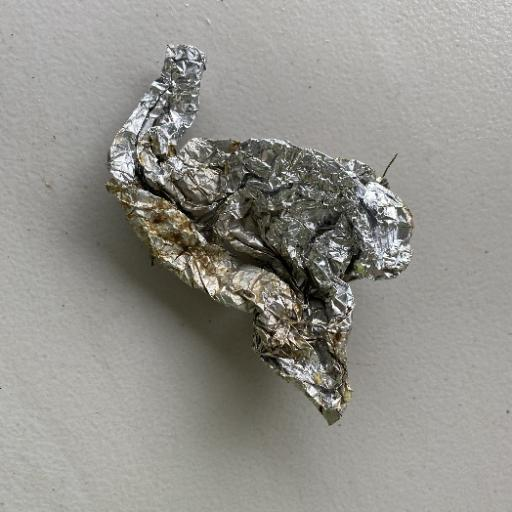Metal: (103, 42, 415, 425)
